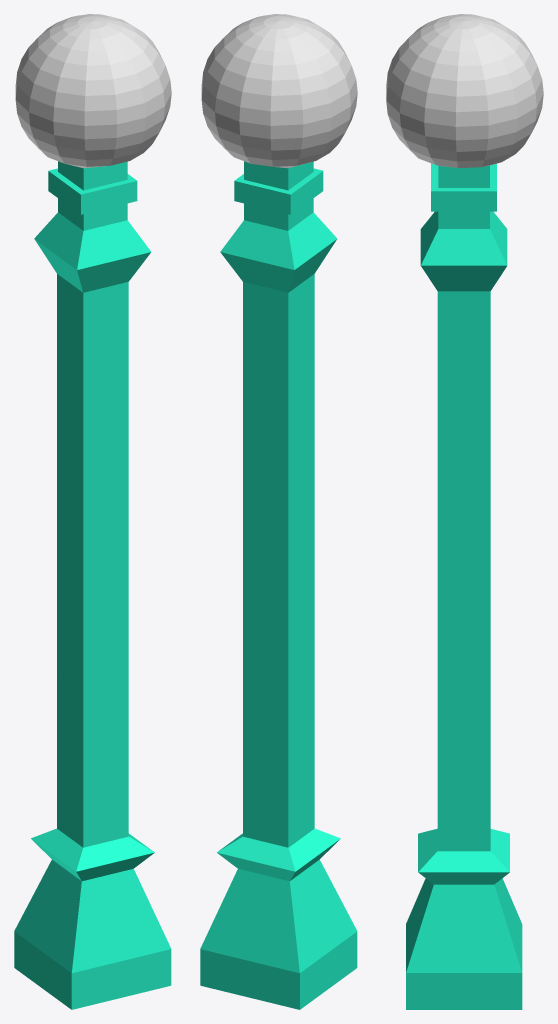
Rendered from Lamp Post.fbx.
3 renders of one model, left to right at view 1: azimuth 30°, elevation 25°; view 2: azimuth 150°, elevation 25°; view 3: azimuth 270°, elevation 25°, orthographic.
Parts seen in each view (by area): view 1: Cube; view 2: Cube; view 3: Cube.
Boxes of the visible parts, x1,y1,x2,y2 form: Cube: [14, 14, 171, 1009]; Cube: [200, 14, 357, 1009]; Cube: [386, 14, 543, 1009].
Bounding box in the file's own units: 273 × 1832 × 271.
